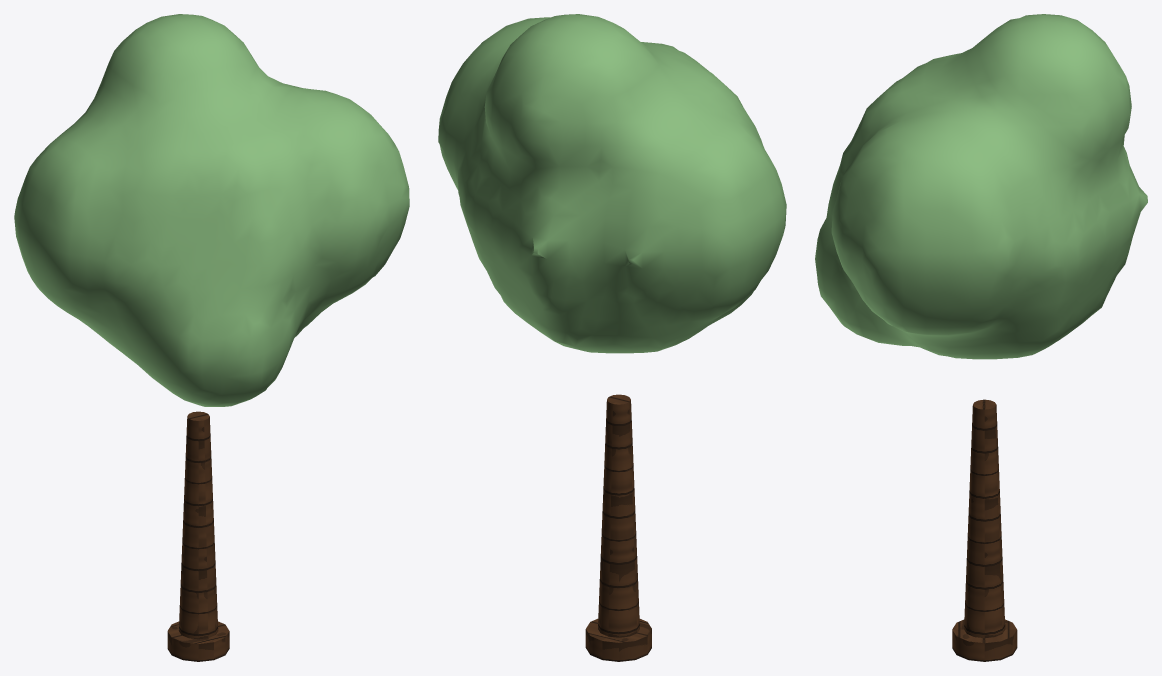
Rendered from Tree.fbx.
3 views of the same model, side by side, from view 1: azimuth 30°, elevation 25°; view 2: azimuth 150°, elevation 25°; view 3: azimuth 270°, elevation 25° (orthographic). The views are drawn at different scales.
Visible parts, largest first — view 1: LOD0; view 2: LOD0; view 3: LOD0.
Part boxes in pixels (x1,y1,x2,y2): LOD0: (14,14,409,661); LOD0: (438,14,786,661); LOD0: (815,14,1147,661).
Size of what is drawn, in the model's own units: 264 by 472 by 225.
